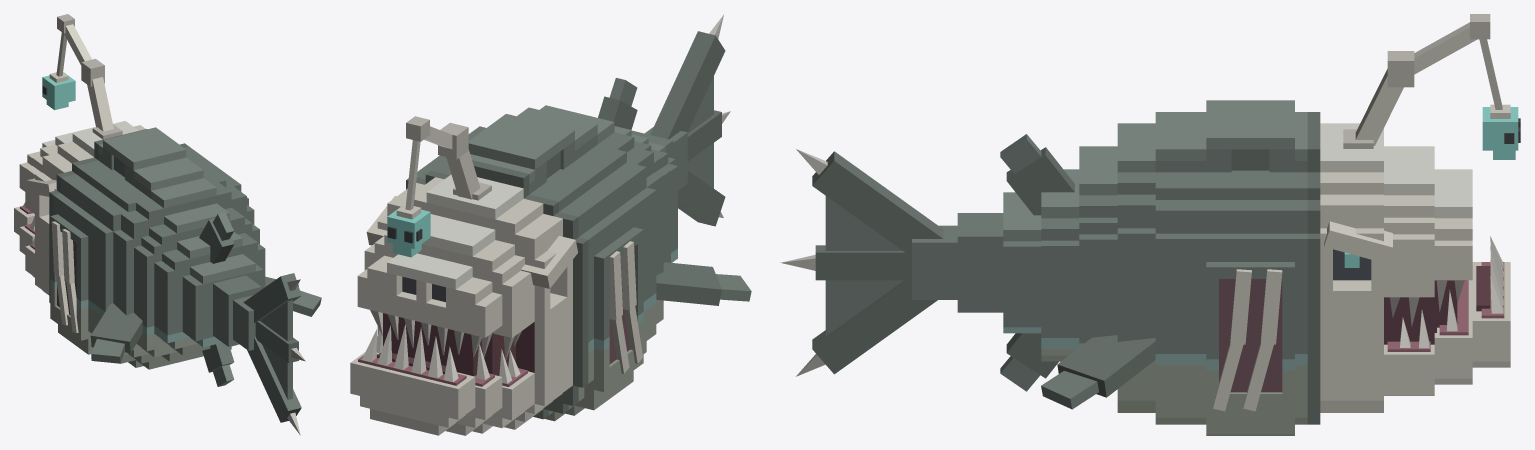
Rendered from SkullAngler.glb.
3 renders of one model, left to right at view 1: azimuth 30°, elevation 25°; view 2: azimuth 150°, elevation 25°; view 3: azimuth 270°, elevation 25°, orthographic. The views are drawn at different scales.
Parts seen in each view (by area): view 1: Body, B4, Tail, B2, B3, B5, FinL, Jaw, Rod2, Rod1, Lure_Glow, Lure (+1 smaller); view 2: Body, Jaw, Tail, B2, B4, FinL, B3, Lure, Lure_Glow, Rod2, Rod1; view 3: Body, Tail, B4, B2, Jaw, B3, B5, FinR, Rod2, Lure, Rod1, Lure_Glow.
Boxes of the visible parts, box(x1,y1,x2,y2) form: Body: box(19, 121, 223, 354); B4: box(134, 203, 265, 386); Tail: box(213, 273, 305, 435); B2: box(88, 157, 248, 367); B3: box(113, 178, 254, 369); B5: box(182, 254, 263, 347); FinL: box(90, 303, 142, 363); Jaw: box(14, 202, 34, 277); Rod2: box(64, 24, 104, 86); Rod1: box(87, 77, 113, 131); Lure_Glow: box(42, 72, 75, 110); Lure: box(42, 14, 74, 95); Body: box(357, 114, 643, 429); Jaw: box(350, 324, 534, 435); Tail: box(631, 14, 730, 226); B2: box(468, 107, 656, 353); B4: box(598, 78, 677, 262); FinL: box(656, 262, 751, 305); B3: box(540, 105, 663, 323); Lure: box(387, 116, 429, 243); Lure_Glow: box(387, 205, 430, 257); Rod2: box(424, 122, 468, 159); Rod1: box(446, 149, 480, 199); Body: box(1206, 100, 1472, 435); Tail: box(780, 149, 1003, 376); B4: box(1000, 134, 1117, 391); B2: box(1155, 112, 1206, 424); Jaw: box(1384, 236, 1510, 395); B3: box(1117, 123, 1155, 412); B5: box(1003, 192, 1041, 333); FinR: box(1041, 335, 1155, 409); Rod2: box(1387, 22, 1477, 87); Lure: box(1470, 14, 1520, 143); Rod1: box(1355, 69, 1403, 145); Lure_Glow: box(1482, 107, 1518, 159).
Bounding box in the file's own units: 13.78 × 15.21 × 26.28.
